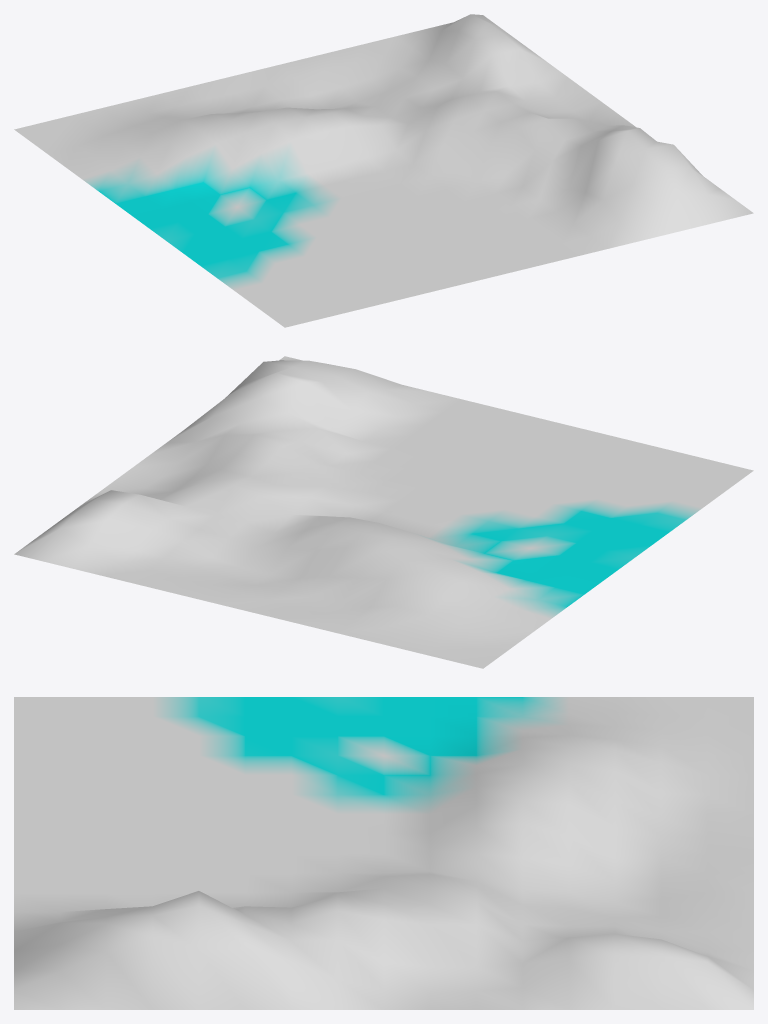
Rendered from big3.fbx.
3 views of the same model, one above another, from view 1: azimuth 30°, elevation 25°; view 2: azimuth 150°, elevation 25°; view 3: azimuth 270°, elevation 25° (orthographic). The views are drawn at different scales.
Parts seen in each view (by area): view 1: m_tile01_20x20_01__10_; view 2: m_tile01_20x20_01__10_; view 3: m_tile01_20x20_01__10_.
Boxes of the visible parts, x1,y1,x2,y2 form: m_tile01_20x20_01__10_: [14, 14, 753, 327]; m_tile01_20x20_01__10_: [14, 356, 753, 668]; m_tile01_20x20_01__10_: [14, 697, 753, 1009].
Bounding box in the file's own units: 2000 × 221 × 2000.
